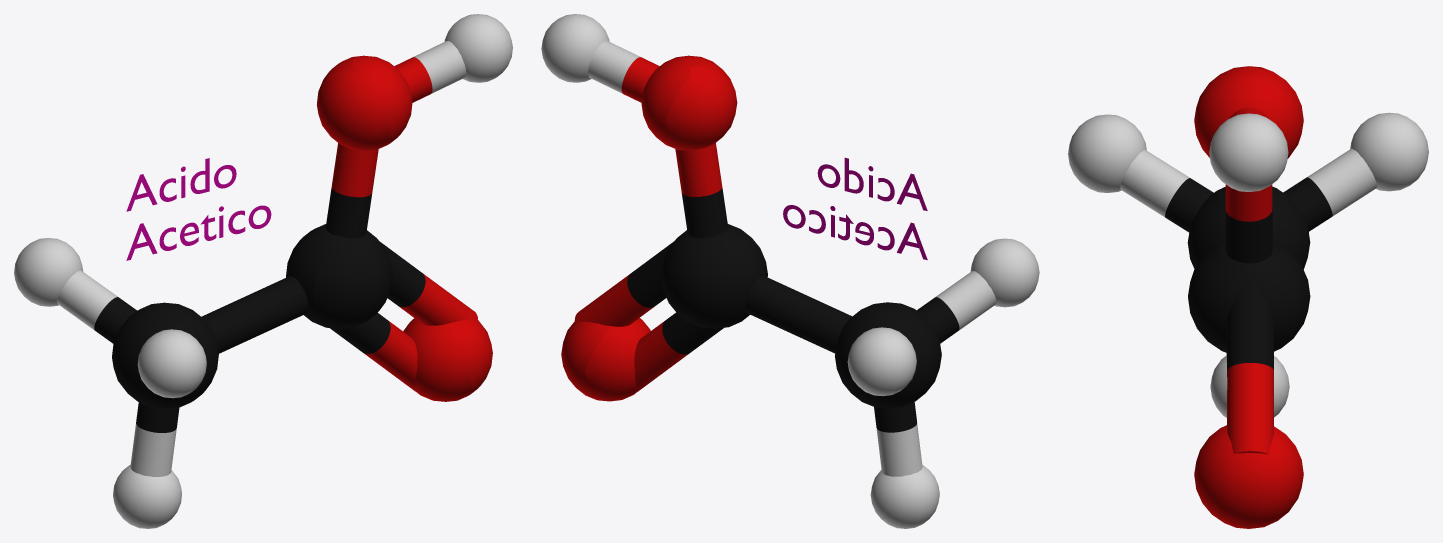
File: acido acetico.obj
3 views of the same model, side by side, from view 1: azimuth 30°, elevation 25°; view 2: azimuth 150°, elevation 25°; view 3: azimuth 270°, elevation 25° (orthographic). The views are drawn at different scales.
Parts seen in each view (by area): view 1: Shape_IndexedFaceSet.012_Shape_IndexedFaceSet.268, Shape_IndexedFaceSet.027_Shape_IndexedFaceSet.283, Shape_IndexedFaceSet.007_Shape_IndexedFaceSet.263, Text_Text.011; view 2: Shape_IndexedFaceSet.012_Shape_IndexedFaceSet.268, Shape_IndexedFaceSet.027_Shape_IndexedFaceSet.283, Shape_IndexedFaceSet.007_Shape_IndexedFaceSet.263, Text_Text.011; view 3: Shape_IndexedFaceSet.007_Shape_IndexedFaceSet.263, Shape_IndexedFaceSet.012_Shape_IndexedFaceSet.268, Shape_IndexedFaceSet.027_Shape_IndexedFaceSet.283.
Boxes of the visible parts, x1=… form: Shape_IndexedFaceSet.012_Shape_IndexedFaceSet.268: x1=94, y1=188, x2=425, y2=432; Shape_IndexedFaceSet.027_Shape_IndexedFaceSet.283: x1=317, y1=55, x2=492, y2=401; Shape_IndexedFaceSet.007_Shape_IndexedFaceSet.263: x1=14, y1=14, x2=512, y2=528; Text_Text.011: x1=126, y1=158, x2=271, y2=260; Shape_IndexedFaceSet.012_Shape_IndexedFaceSet.268: x1=627, y1=188, x2=959, y2=432; Shape_IndexedFaceSet.027_Shape_IndexedFaceSet.283: x1=561, y1=55, x2=737, y2=401; Shape_IndexedFaceSet.007_Shape_IndexedFaceSet.263: x1=541, y1=14, x2=1039, y2=528; Text_Text.011: x1=783, y1=157, x2=927, y2=260; Shape_IndexedFaceSet.007_Shape_IndexedFaceSet.263: x1=1068, y1=112, x2=1428, y2=417; Shape_IndexedFaceSet.012_Shape_IndexedFaceSet.268: x1=1165, y1=177, x2=1332, y2=376; Shape_IndexedFaceSet.027_Shape_IndexedFaceSet.283: x1=1194, y1=66, x2=1303, y2=528.
Bounding box in the file's own units: 36.06 × 34.5 × 23.03.
